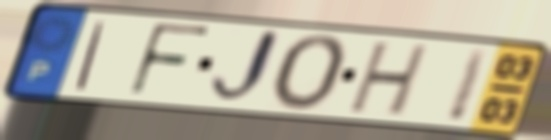F: (125, 20, 215, 101)
H: (343, 40, 434, 119)
I: (442, 45, 495, 124), (71, 19, 110, 93)
J: (206, 26, 286, 109)
O: (268, 32, 353, 115)
